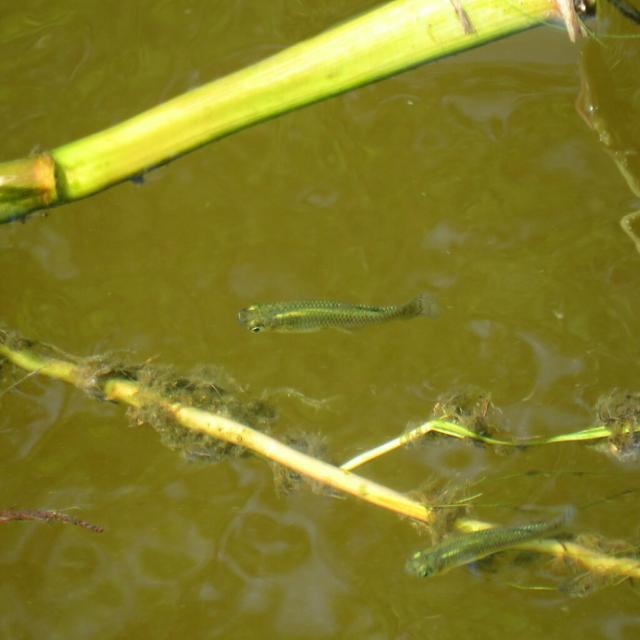Sivrisinek Baligi: (391, 493, 576, 590), (234, 290, 442, 336)
